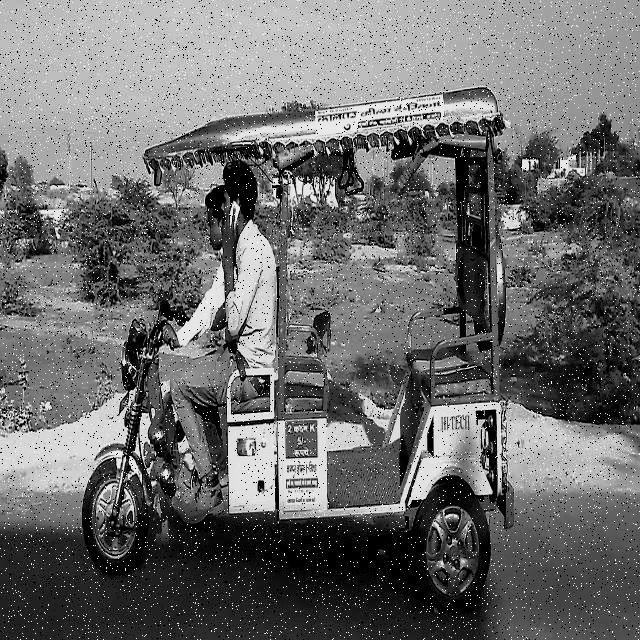Toto: (88, 91, 505, 597)
